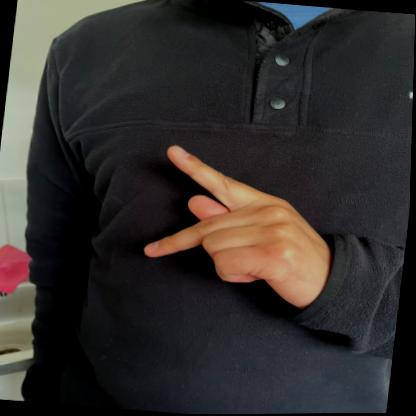K: (139, 138, 347, 312)
